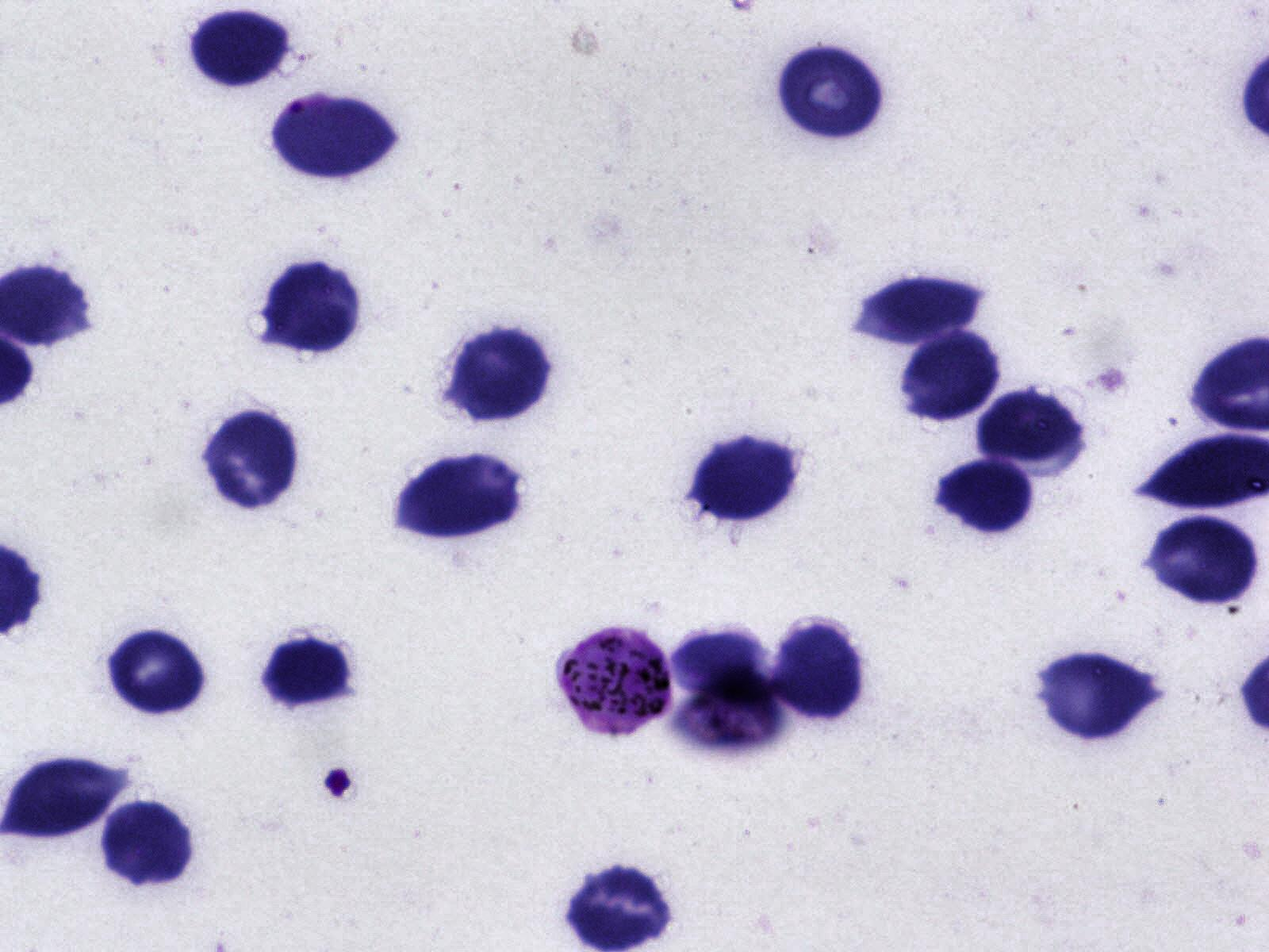Infected: (562, 628, 671, 735)
Uninfected: (1032, 654, 1160, 746), (275, 94, 395, 178), (397, 457, 522, 537), (2, 758, 125, 839), (1147, 517, 1259, 605), (777, 47, 884, 138), (564, 865, 673, 952), (690, 438, 795, 526), (976, 389, 1079, 478), (208, 405, 295, 510), (452, 330, 553, 420), (263, 264, 362, 354), (773, 624, 865, 720), (109, 628, 209, 716), (901, 334, 999, 421), (188, 7, 292, 88), (855, 281, 987, 344), (101, 801, 196, 887), (261, 632, 355, 709), (937, 460, 1031, 528)
